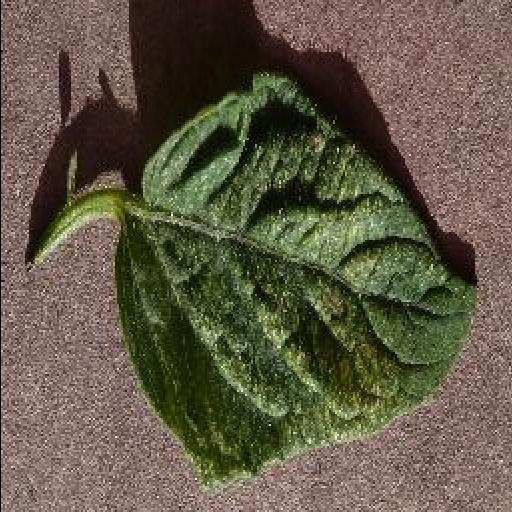disease_tomato: (110, 70, 480, 486)
